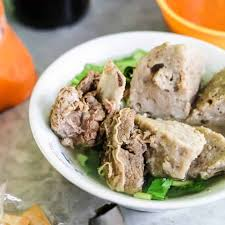bakso: (48, 38, 225, 195)
